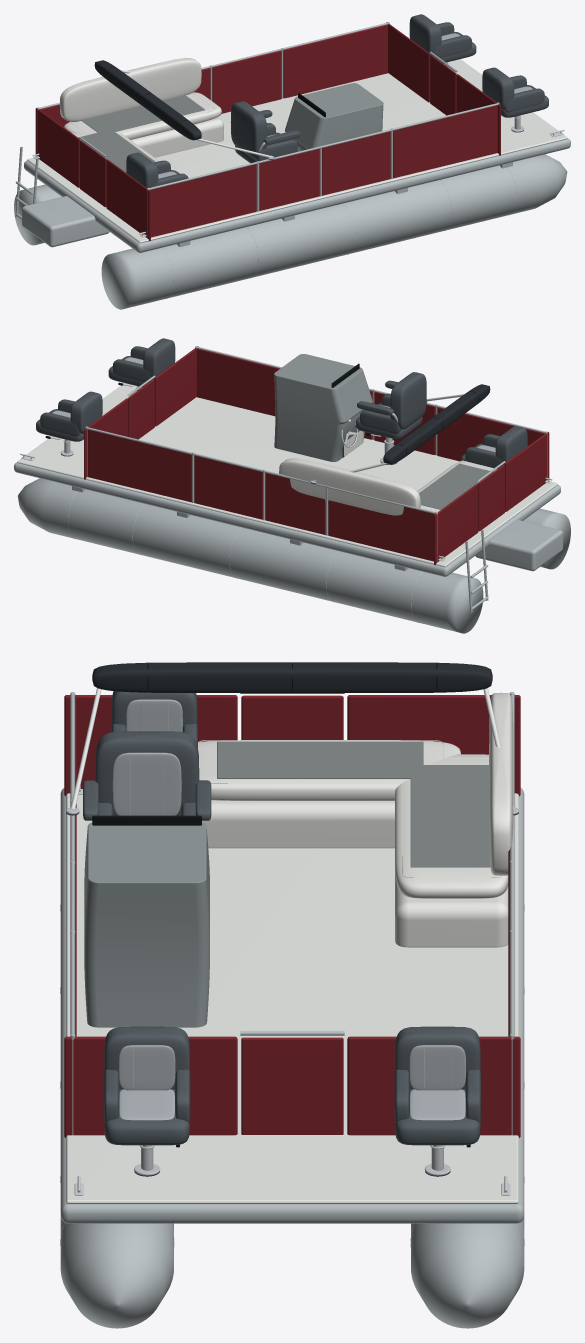
Rendered from Boat_pontoon.glb.
3 views of the same model, one above another, from view 1: azimuth 30°, elevation 25°; view 2: azimuth 150°, elevation 25°; view 3: azimuth 270°, elevation 25° (orthographic). The views are drawn at different scales.
Parts seen in each view (by area): view 1: Fleet | formed aluminum pontoon tube, Reference | woven gray vinyl deck, Reference | aluminum deck extrusion perimeter, Reference | pontoon colored fence panel.007, Reference | pontoon colored fence panel, Reference | pontoon colored fence panel.003, Reference | rounded pontoon helm, Reference | contoured lounge backrest.003, Reference | pontoon colored fence panel.002, Reference | pontoon colored fence panel.006, Reference | pontoon colored fence panel.001, Reference | extruded motor pod (+19 smaller); view 2: Fleet | formed aluminum pontoon tube.001, Reference | woven gray vinyl deck, Reference | rounded pontoon helm, Reference | aluminum deck extrusion perimeter, Reference | pontoon colored fence panel.007, Reference | contoured lounge backrest.003, Reference | pontoon colored fence panel.004, Reference | pontoon colored fence panel.003, Reference | pontoon colored fence panel.006, Reference | extruded motor pod, Reference | pontoon colored fence panel.005, Reference | end fence curved-layout panel.001 (+20 smaller); view 3: Reference | woven gray vinyl deck, Reference | rounded pontoon helm, Reference | aluminum deck extrusion perimeter, V59 | folded shade canvas storage boot.001, Fleet | formed aluminum pontoon tube.001, Fleet | formed aluminum pontoon tube, Reference | center access gate.001, Reference | molded seating storage base.010, Reference | end fence curved-layout panel.002, Reference | end fence curved-layout panel.003, Reference | inset gray vinyl.024, Reference | inset gray vinyl.025 (+20 smaller).
Boxes of the visible parts, x1,y1,x2,y2 form: Fleet | formed aluminum pontoon tube: (101,154,567,309); Reference | woven gray vinyl deck: (27,59,567,243); Reference | aluminum deck extrusion perimeter: (24,138,570,252); Reference | pontoon colored fence panel.007: (283,24,387,98); Reference | pontoon colored fence panel: (150,164,256,237); Reference | pontoon colored fence panel.003: (393,105,497,178); Reference | rounded pontoon helm: (285,83,383,150); Reference | contoured lounge backrest.003: (59,58,201,121); Reference | pontoon colored fence panel.002: (322,131,390,195); Reference | pontoon colored fence panel.006: (212,50,281,113); Reference | pontoon colored fence panel.001: (259,149,319,210); Reference | extruded motor pod: (22,196,109,247); Fleet | formed aluminum pontoon tube.001: (17,478,483,633); Reference | woven gray vinyl deck: (17,383,557,567); Reference | rounded pontoon helm: (274,354,372,461); Reference | aluminum deck extrusion perimeter: (14,462,560,576); Reference | pontoon colored fence panel.007: (87,429,191,502); Reference | contoured lounge backrest.003: (279,458,420,515); Reference | pontoon colored fence panel.004: (328,500,434,561); Reference | pontoon colored fence panel.003: (197,348,279,416); Reference | pontoon colored fence panel.006: (194,455,262,519); Reference | extruded motor pod: (475,520,562,571); Reference | pontoon colored fence panel.005: (265,473,325,534); Reference | end fence curved-layout panel.001: (434,483,478,565); Reference | woven gray vinyl deck: (66,793,518,1203); Reference | rounded pontoon helm: (84,822,209,1027); Reference | aluminum deck extrusion perimeter: (60,788,524,1223); V59 | folded shade canvas storage boot.001: (92,662,492,692); Fleet | formed aluminum pontoon tube.001: (411,1217,524,1328); Fleet | formed aluminum pontoon tube: (60,1217,173,1328); Reference | center access gate.001: (241,1037,343,1134); Reference | molded seating storage base.010: (202,800,394,848); Reference | end fence curved-layout panel.002: (64,1036,237,1137); Reference | end fence curved-layout panel.003: (347,1036,520,1137); Reference | inset gray vinyl.024: (410,765,490,867); Reference | inset gray vinyl.025: (217,741,423,778).
Bounding box in the file's own units: 6.04 × 1.93 × 2.49.
